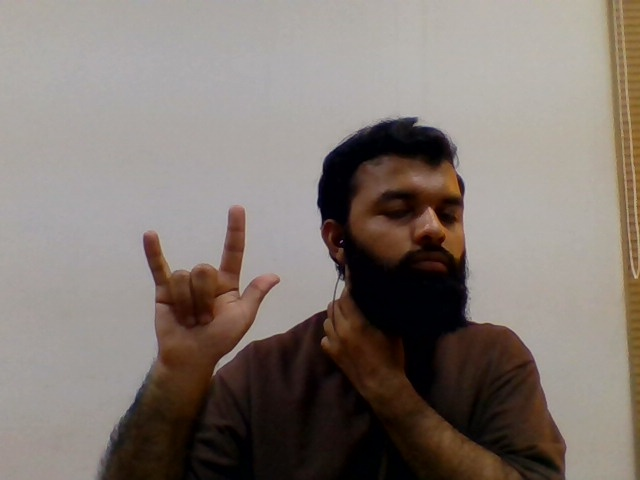I Love you: (134, 197, 284, 374)
